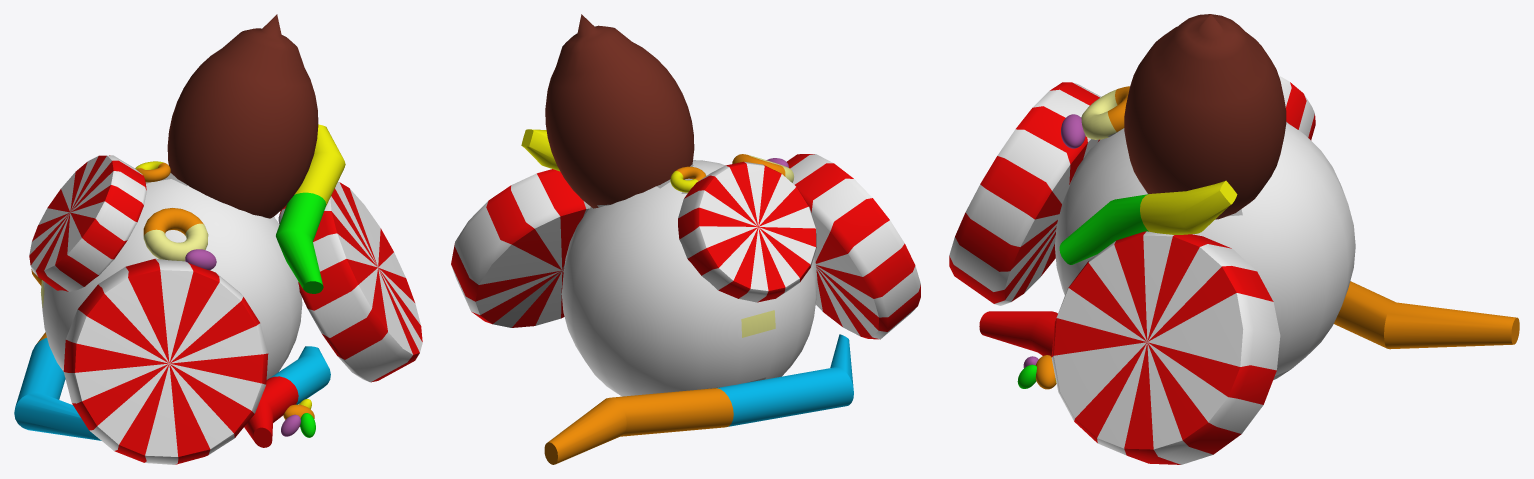
The model's file is Candy_Spawner.fbx.
3 renders of one model, left to right at view 1: azimuth 30°, elevation 25°; view 2: azimuth 150°, elevation 25°; view 3: azimuth 270°, elevation 25°, orthographic. The views are drawn at different scales.
Visible parts, largest first — view 1: polySurface1, polySurface13, polySurface15, polySurface14, polySurface2, polySurface10, polySurface11, polySurface12, polySurface6, polySurface5, polySurface8; view 2: polySurface14, polySurface13, polySurface2, polySurface15, polySurface1, polySurface11, polySurface10, polySurface5, polySurface6; view 3: polySurface15, polySurface14, polySurface13, polySurface1, polySurface11, polySurface10, polySurface12, polySurface6, polySurface2, polySurface8.
Boxes of the visible parts, x1,y1,x2,y2 form: polySurface1: (63, 258, 268, 464); polySurface13: (167, 14, 318, 218); polySurface15: (278, 182, 422, 382); polySurface14: (40, 173, 302, 379); polySurface2: (29, 155, 146, 291); polySurface10: (276, 124, 345, 293); polySurface11: (14, 269, 101, 440); polySurface12: (244, 346, 330, 447); polySurface6: (143, 208, 208, 261); polySurface5: (135, 161, 170, 182); polySurface8: (185, 249, 216, 270); polySurface14: (561, 160, 817, 396); polySurface13: (545, 14, 694, 208); polySurface2: (678, 161, 816, 302); polySurface15: (451, 169, 590, 327); polySurface1: (787, 154, 920, 339); polySurface11: (544, 334, 853, 464); polySurface10: (521, 129, 560, 171); polySurface5: (670, 166, 706, 192); polySurface6: (732, 154, 793, 182); polySurface15: (1051, 231, 1280, 464); polySurface14: (1055, 122, 1355, 379); polySurface13: (1124, 14, 1286, 219); polySurface1: (949, 82, 1101, 305); polySurface11: (1334, 281, 1519, 349); polySurface10: (1059, 180, 1237, 264); polySurface12: (979, 311, 1057, 356); polySurface6: (1081, 86, 1129, 139); polySurface2: (1278, 75, 1315, 140); polySurface8: (1061, 114, 1085, 148).
Size of the model in its own units: 4.61 by 4.12 by 4.96.
